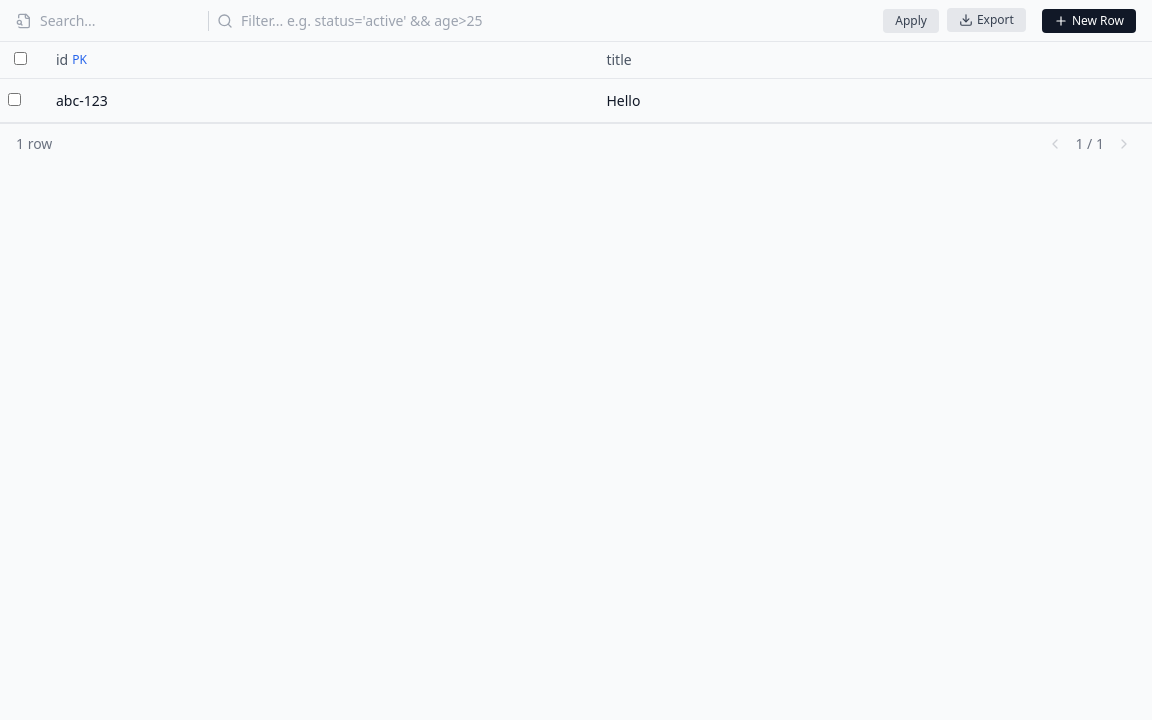
it: TableBrowser › clicking a row opens detail drawer
This screenshot has width=1152, height=720.
Expected: the text "Hello" is shown, [590, 78, 1072, 122]
# Click the table row (the tr element).
Step 1. Click the text "Hello" → (576, 100), box [0, 78, 1151, 122]
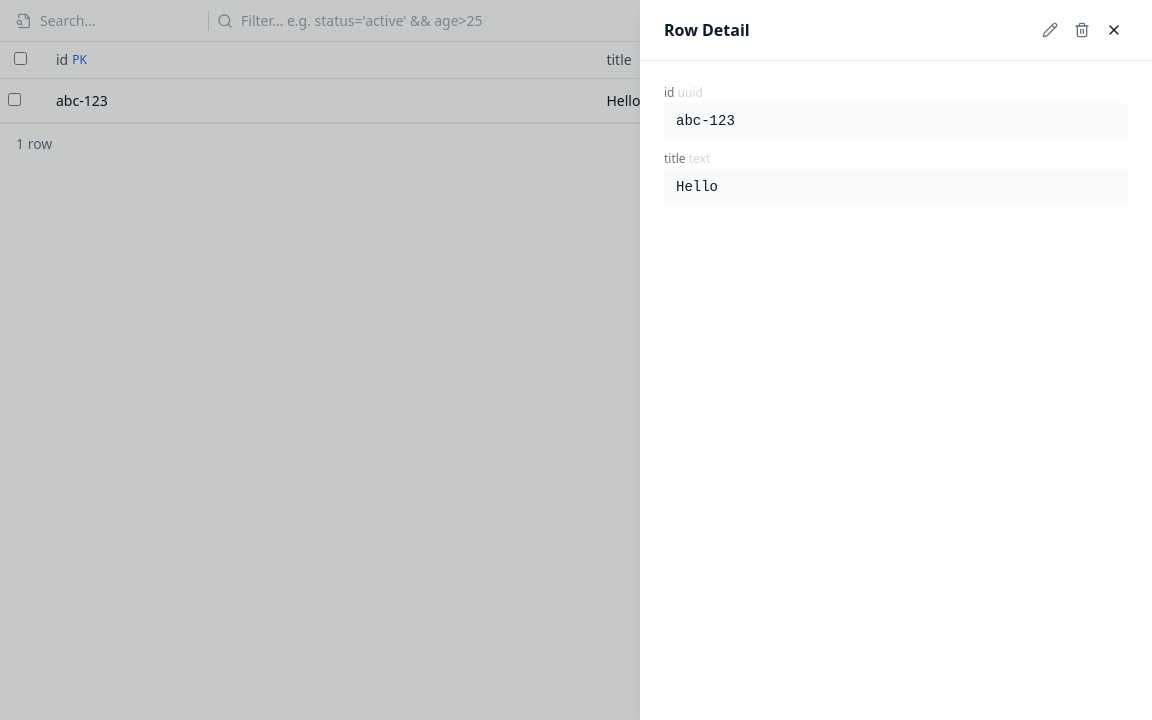
Result: the heading "Row Detail" is shown at [664, 18, 750, 42]
